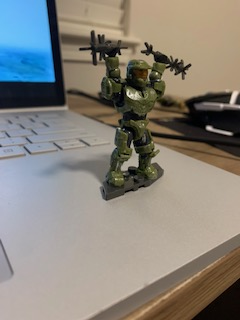chief: (101, 38, 166, 188)
spartan: (99, 36, 164, 186)
up: (101, 40, 167, 119)
